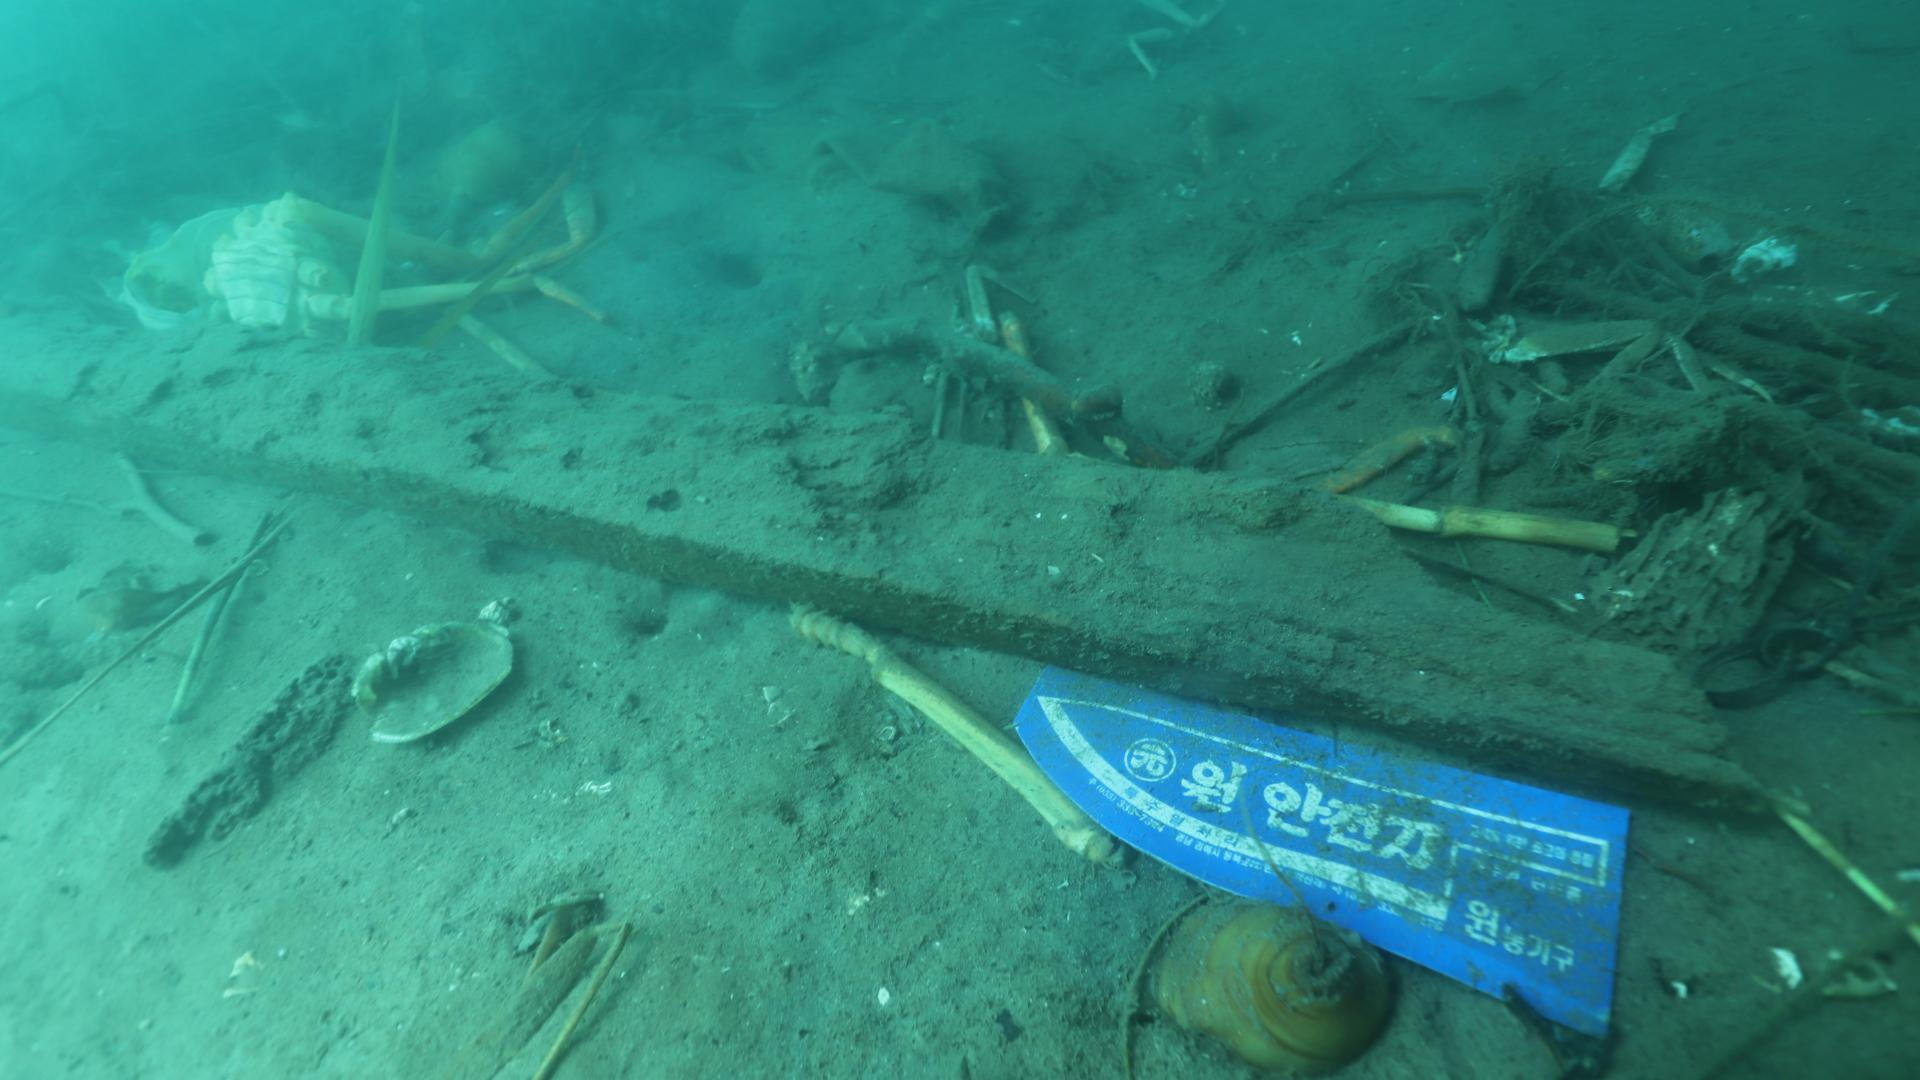wood: (0, 302, 1776, 825)
